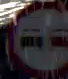No overtake: (8, 0, 67, 78)
